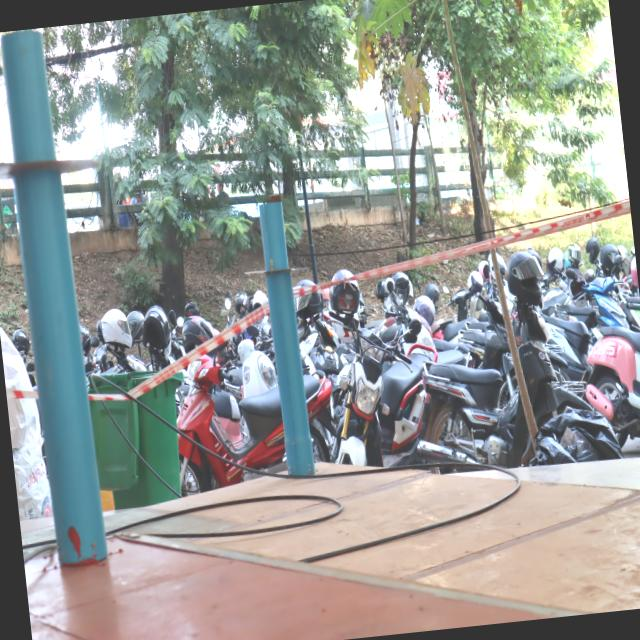pole: (0, 27, 110, 317), (235, 197, 312, 336)
